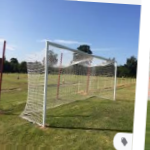goals: (21, 40, 117, 127)
